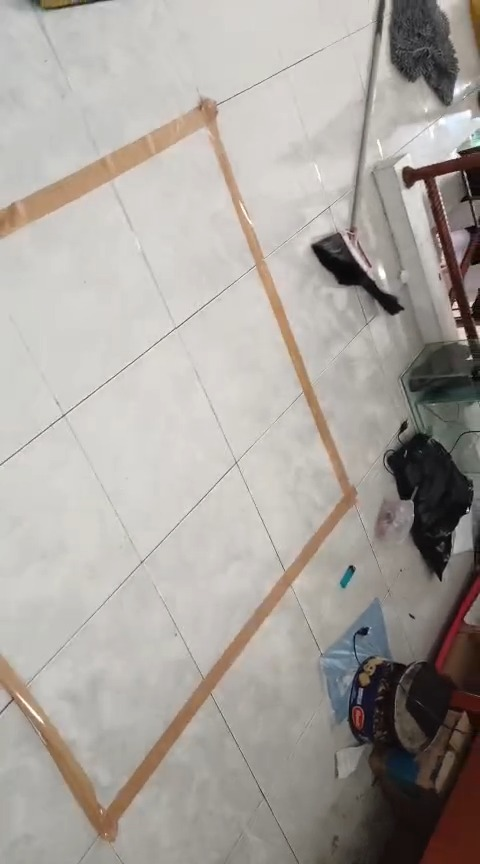floor marking: (0, 99, 356, 841)
